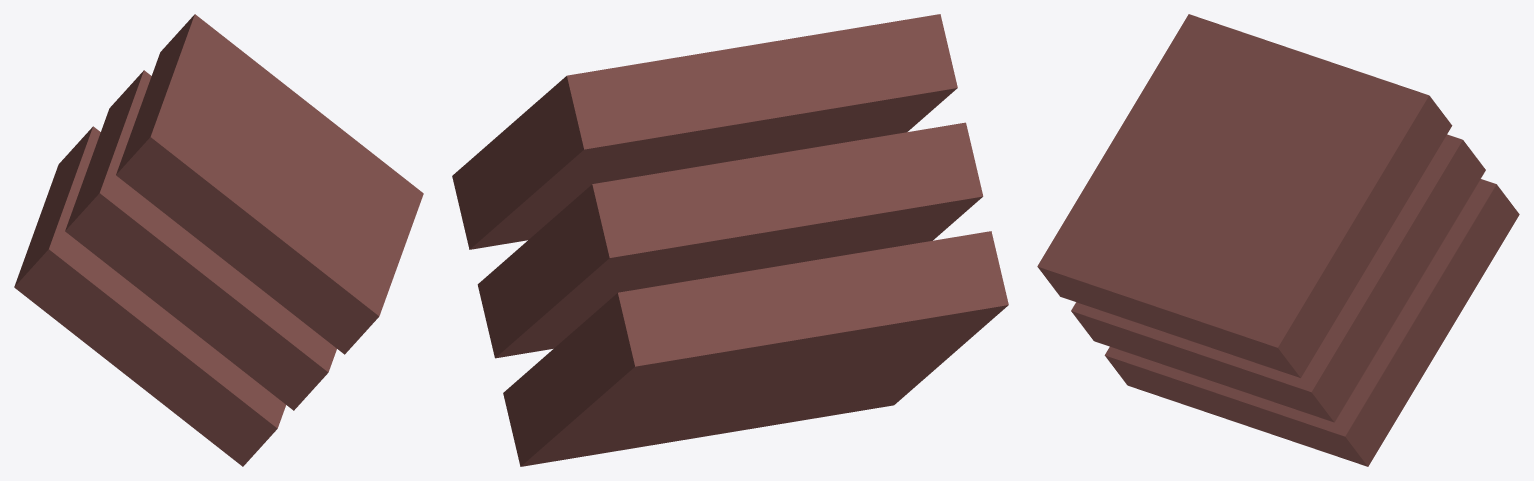
Rendered from figure-0.gltf.
3 renders of one model, left to right at view 1: azimuth 30°, elevation 25°; view 2: azimuth 150°, elevation 25°; view 3: azimuth 270°, elevation 25°, orthographic. The views are drawn at different scales.
Parts seen in each view (by area): view 1: Cube.041; view 2: Cube.041; view 3: Cube.041.
Boxes of the visible parts, x1,y1,x2,y2 form: Cube.041: (14,14,423,466); Cube.041: (452,14,1008,466); Cube.041: (1037,14,1519,466).
Size of the model in its own units: 5.81 by 4.4 by 5.67.
